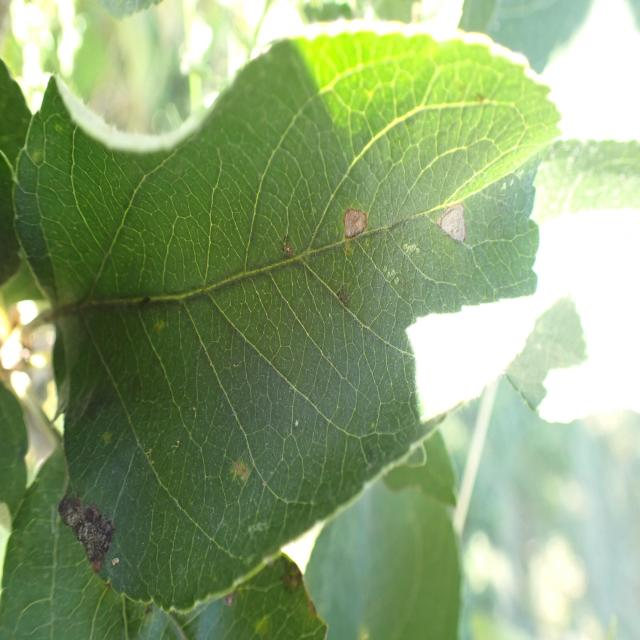frog-eye-leaf-spot: (16, 20, 564, 612)
